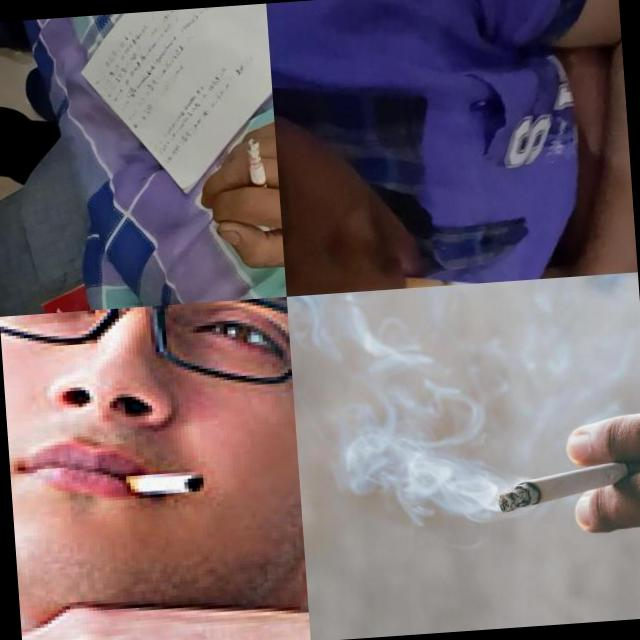cigarette: (495, 456, 640, 516), (402, 263, 570, 288), (122, 470, 204, 498), (246, 137, 268, 199)
